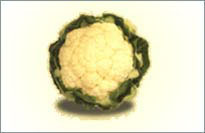cauliflower: (47, 13, 151, 113)
